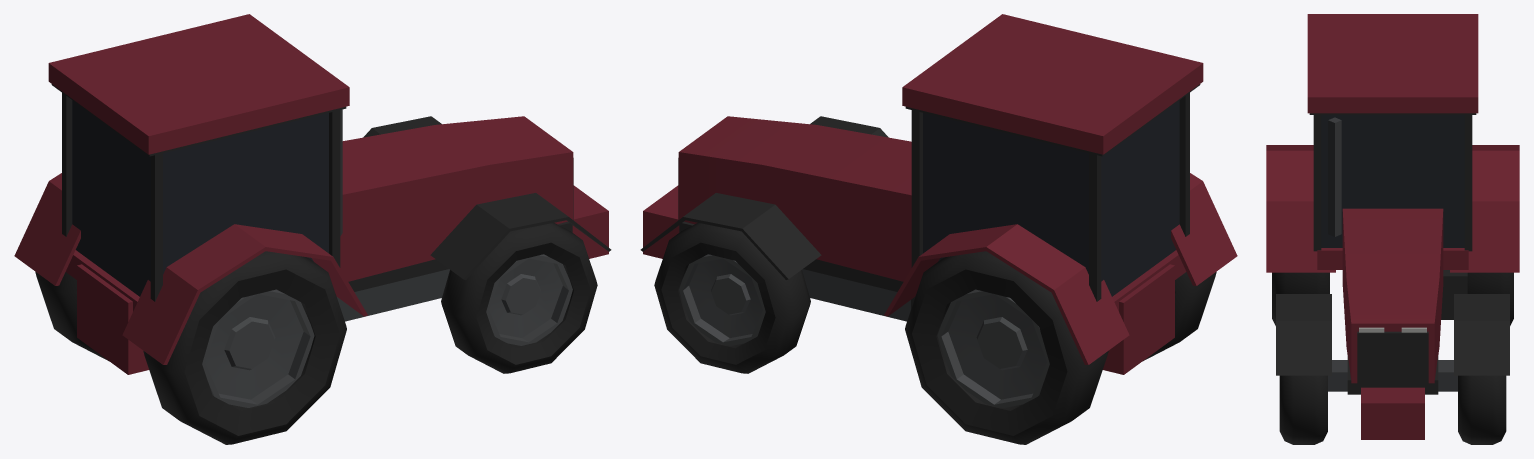
Rendered from SM_Prop_farm_tractor_1_LOD2.glb.
3 views of the same model, side by side, from view 1: azimuth 30°, elevation 25°; view 2: azimuth 150°, elevation 25°; view 3: azimuth 270°, elevation 25° (orthographic). The views are drawn at different scales.
Visible parts, largest first — view 1: SM_Prop_farm_tractor_1_LOD2; view 2: SM_Prop_farm_tractor_1_LOD2; view 3: SM_Prop_farm_tractor_1_LOD2.
Boxes of the visible parts, x1,y1,x2,y2 form: SM_Prop_farm_tractor_1_LOD2: (14,14,611,444); SM_Prop_farm_tractor_1_LOD2: (640,14,1237,444); SM_Prop_farm_tractor_1_LOD2: (1266,14,1519,444).
Bounding box in the file's own units: 5.09 × 3.06 × 2.62.
